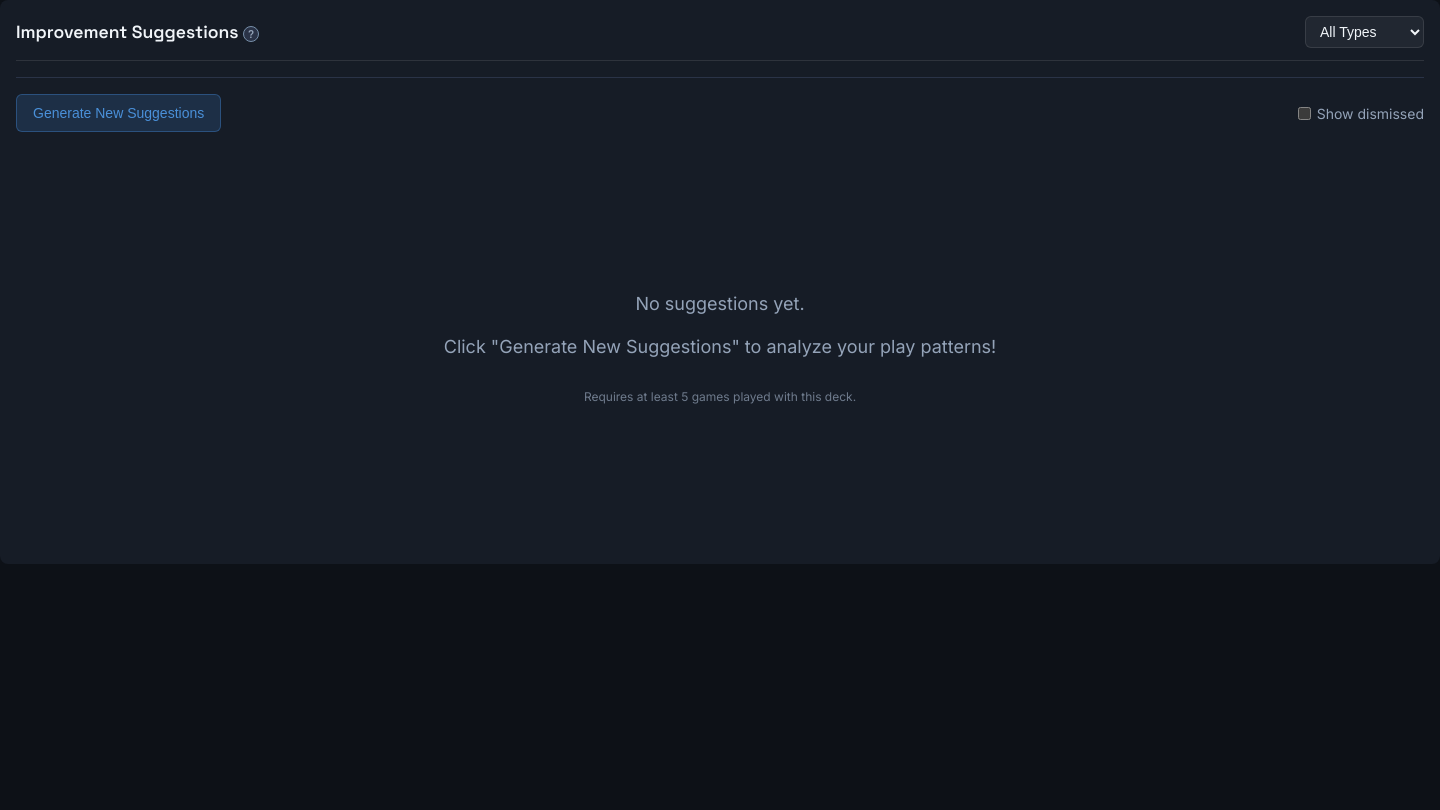
Test case: ImprovementSuggestionsPanel › Error Handling › should allow dismissing error message
The width and height of the screenshot is (1440, 810).
Click the button with test id "suggestions-generate-button".
click(119, 113)  # box [16,94,221,132]
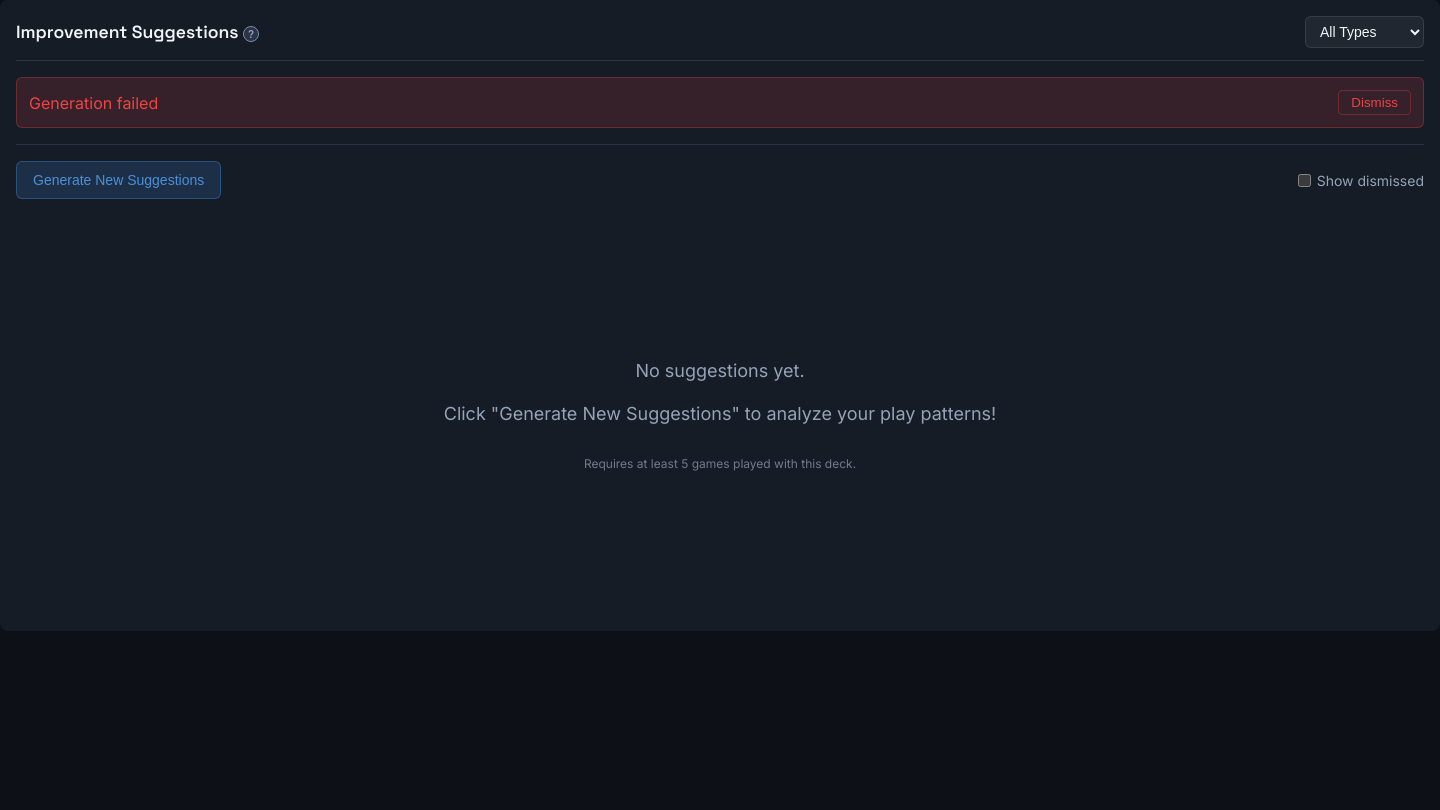
Check: the text "Generation failed" is shown, box [29,90,158,114]
// Click dismiss on error banner
Click the button "Dismiss".
click(1375, 102)  # box [1338,90,1411,115]
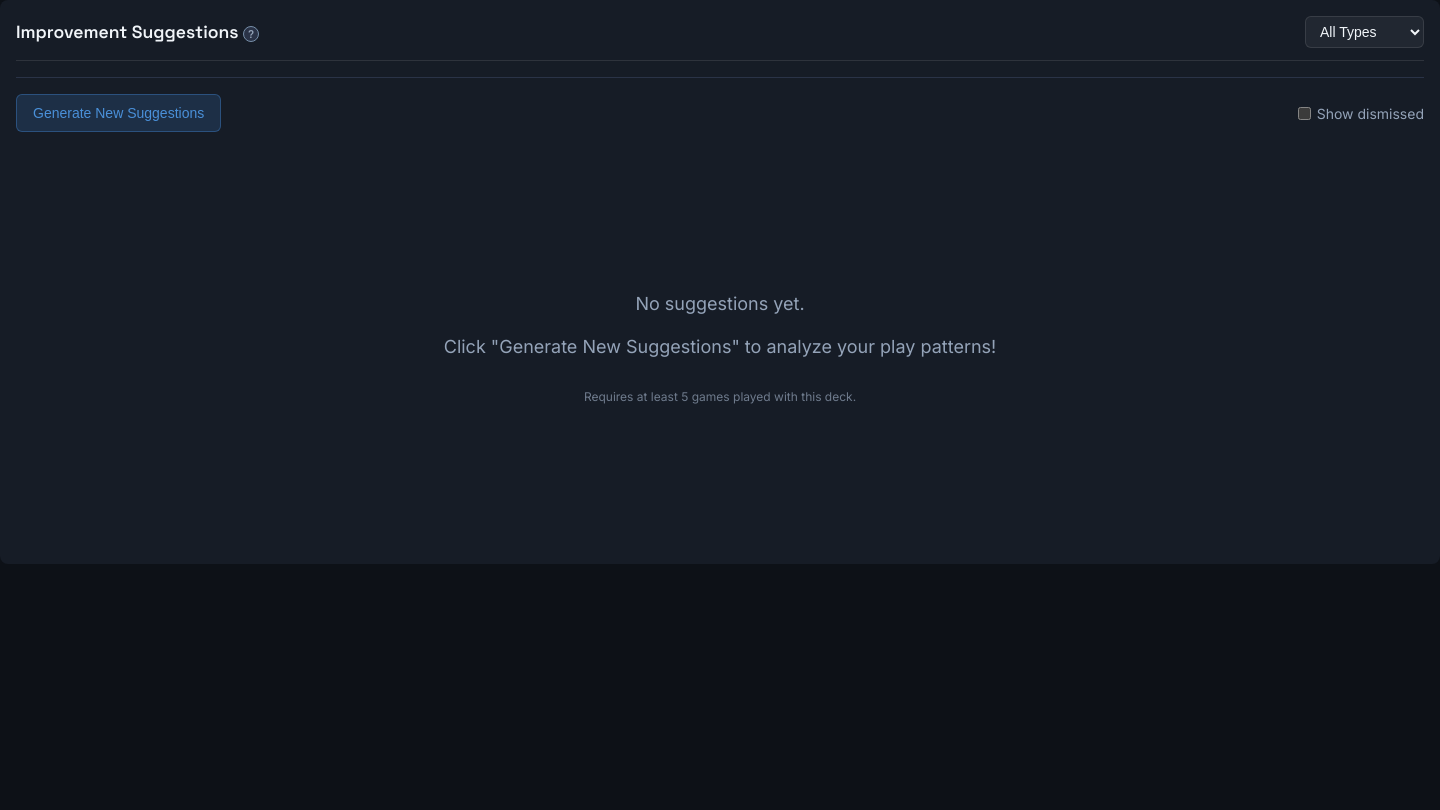
Check: the text "Generation failed" is gone
